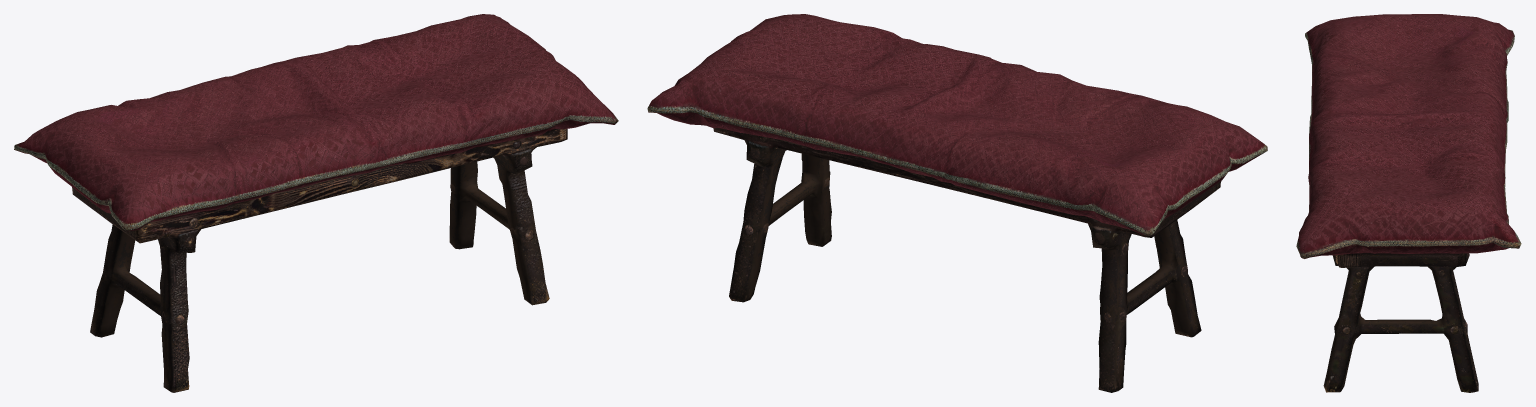
File: window_cushion.glb
The picture shows the model from 3 angles, left to right: view 1: azimuth 30°, elevation 25°; view 2: azimuth 150°, elevation 25°; view 3: azimuth 270°, elevation 25°; orthographic projection. The views are drawn at different scales.
Parts seen in each view (by area): view 1: window_cushion; view 2: window_cushion; view 3: window_cushion.
Part boxes in pixels (<box>): window_cushion: <box>14,14,618,392</box>; window_cushion: <box>647,14,1267,392</box>; window_cushion: <box>1296,14,1521,392</box>.
Size of the model in its own units: 1.19 by 0.5244 by 0.5207.
Materials: 1 (1 with a texture image).
